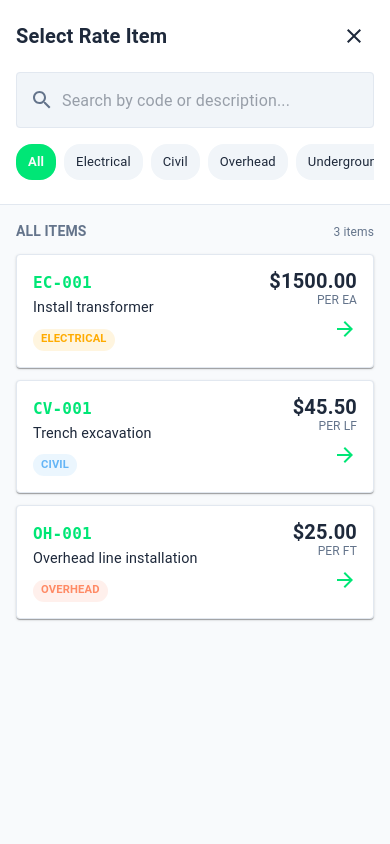
Test case: PriceBookSelector Component › Category Filters › should filter by category when clicked
Expected: the text "EC-001" is shown, [33,271,92,295]
Click the button "Civil": (175, 162) [151,144,200,180]
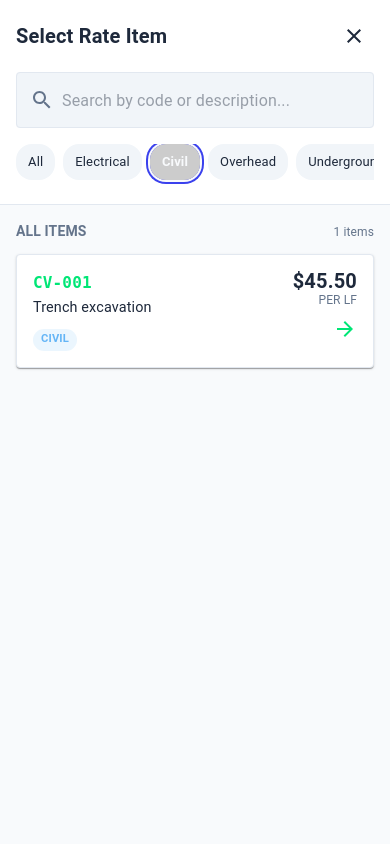
Expected: the text "CV-001" is shown, [33,271,92,295]
Result: the text "EC-001" is gone
